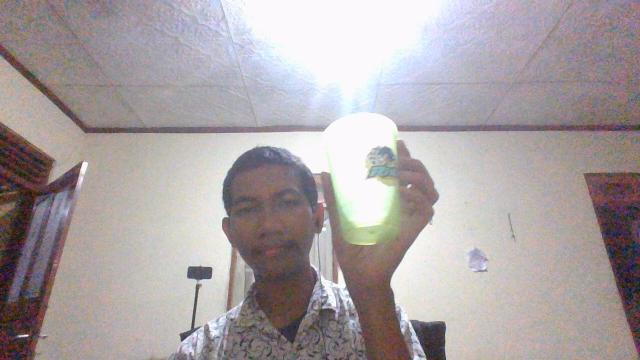botol-hijau: (320, 110, 404, 246)
